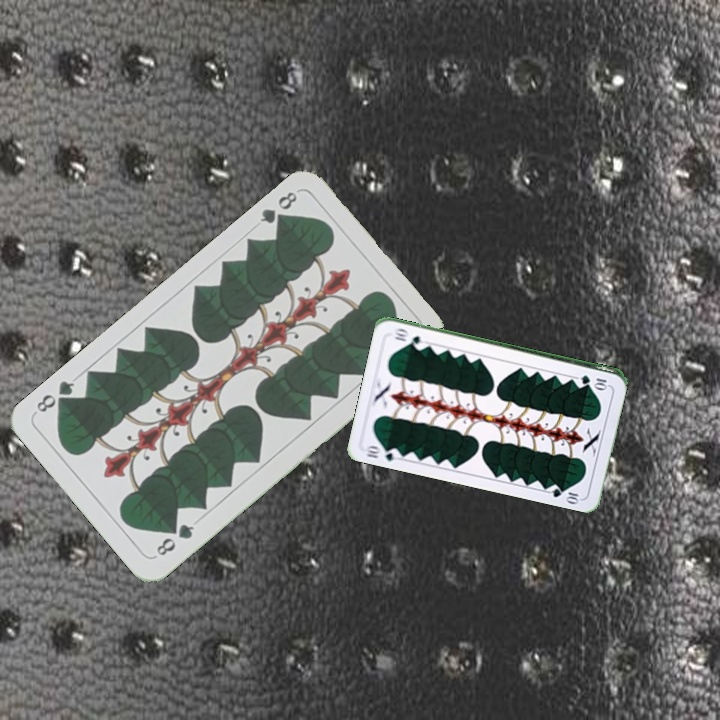G10: (361, 441, 403, 463), (576, 371, 611, 389)
G8: (256, 187, 300, 230), (150, 519, 197, 559)
